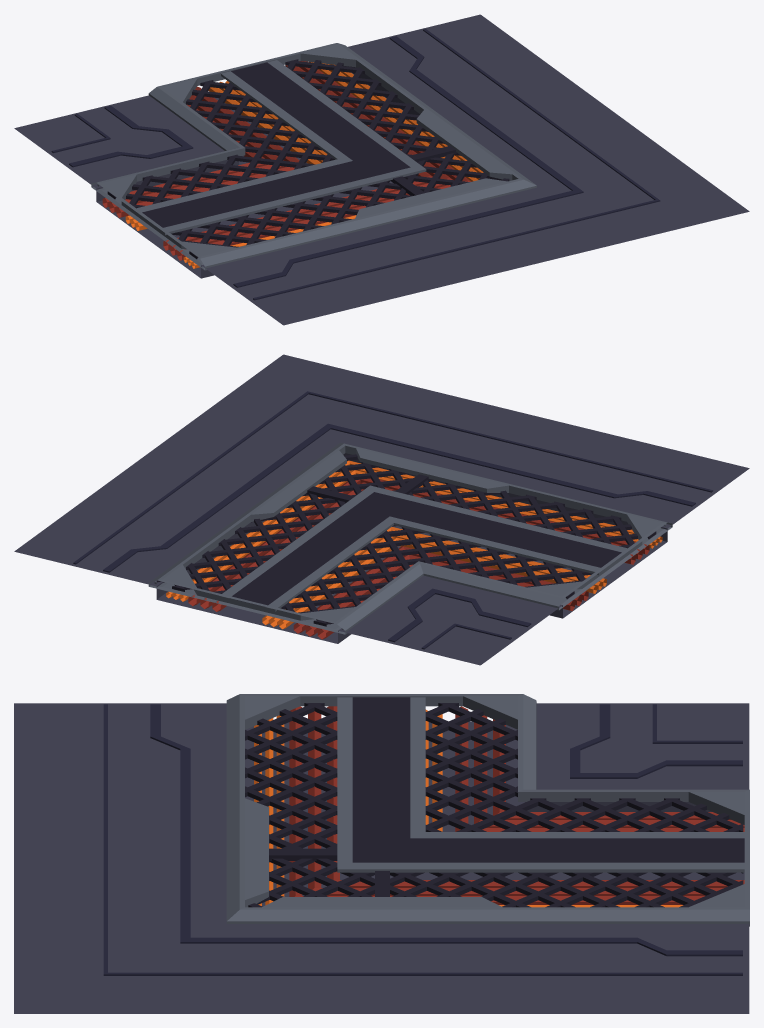
File: groundWireB.fbx
3 renders of one model, top to bottom at view 1: azimuth 30°, elevation 25°; view 2: azimuth 150°, elevation 25°; view 3: azimuth 270°, elevation 25°, orthographic. The views are drawn at different scales.
Visible parts, largest first — view 1: groundWireB; view 2: groundWireB; view 3: groundWireB.
Part boxes in pixels (bbox=[...]): groundWireB: bbox=[14, 14, 749, 325]; groundWireB: bbox=[14, 354, 749, 665]; groundWireB: bbox=[14, 694, 749, 1013].
Bounding box in the file's own units: 400 × 16.36 × 400.
